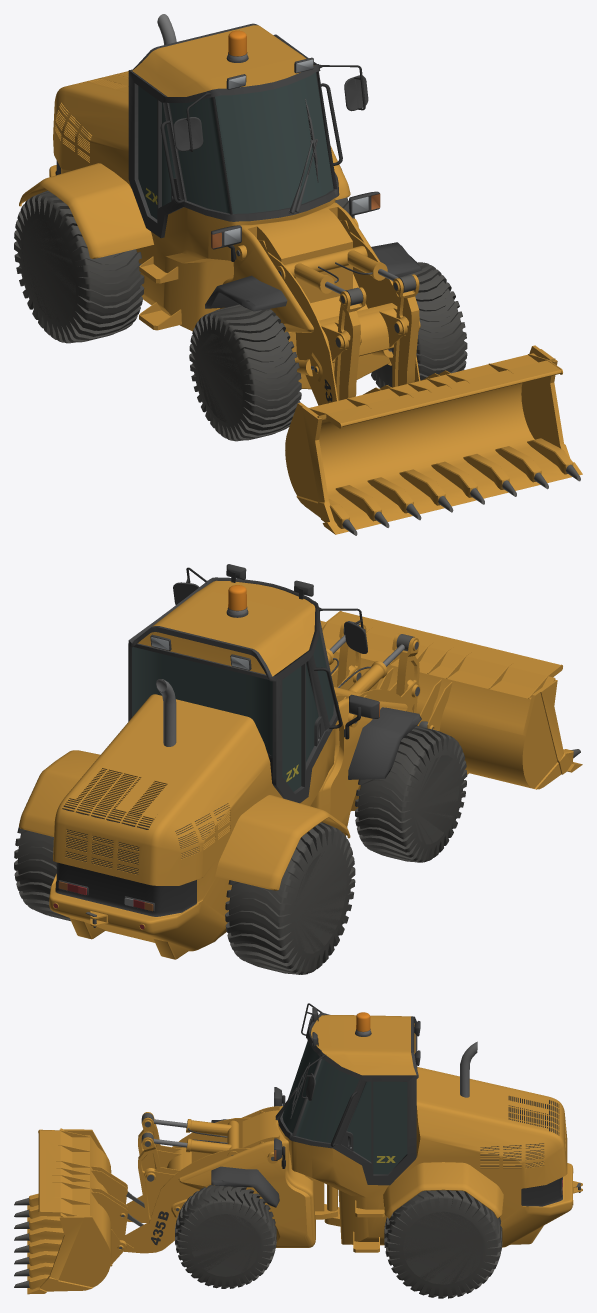
The model's file is JCB 435 B.fbx.
The picture shows the model from 3 angles, top to bottom: view 1: azimuth 30°, elevation 25°; view 2: azimuth 150°, elevation 25°; view 3: azimuth 270°, elevation 25°; orthographic projection. The views are drawn at different scales.
Visible parts, largest first — view 1: Empty_Mesh; view 2: Empty_Mesh; view 3: Empty_Mesh.
Part boxes in pixels (x1,y1,x2,y2): Empty_Mesh: [14, 14, 582, 535]; Empty_Mesh: [14, 564, 582, 974]; Empty_Mesh: [14, 1003, 582, 1298].
Bounding box in the file's own units: 777 × 860 × 1868.
